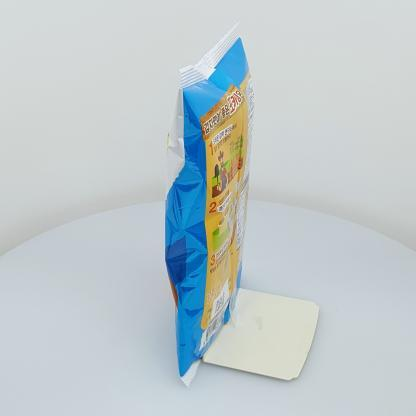Plastic Packaging: (164, 29, 254, 383)
